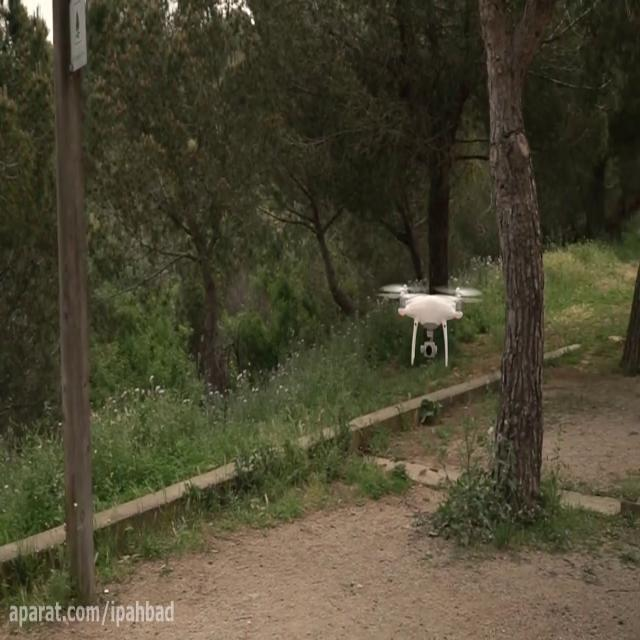drone: (376, 282, 485, 367)
